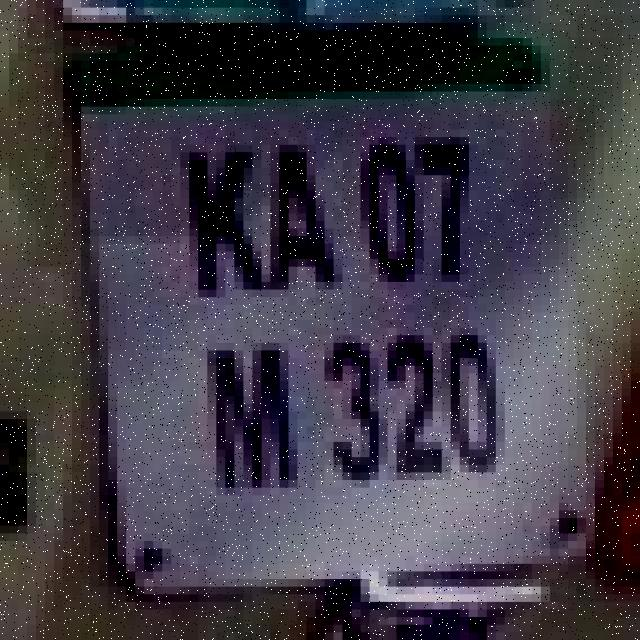licenseplate: (64, 47, 640, 598)
